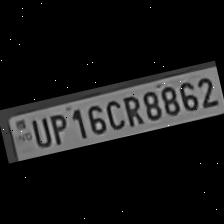1: (64, 105, 89, 141)
2: (194, 74, 220, 110)
6: (174, 78, 199, 114), (81, 102, 107, 136)
8: (138, 87, 164, 123), (156, 82, 181, 118)
C: (101, 96, 126, 133)
P: (46, 110, 72, 147)
R: (118, 92, 144, 129)
U: (27, 114, 52, 150)
